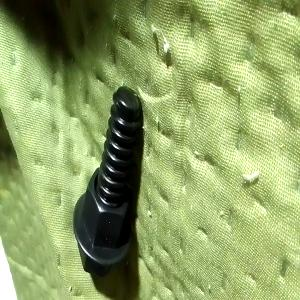parafuso: (73, 86, 144, 278)
